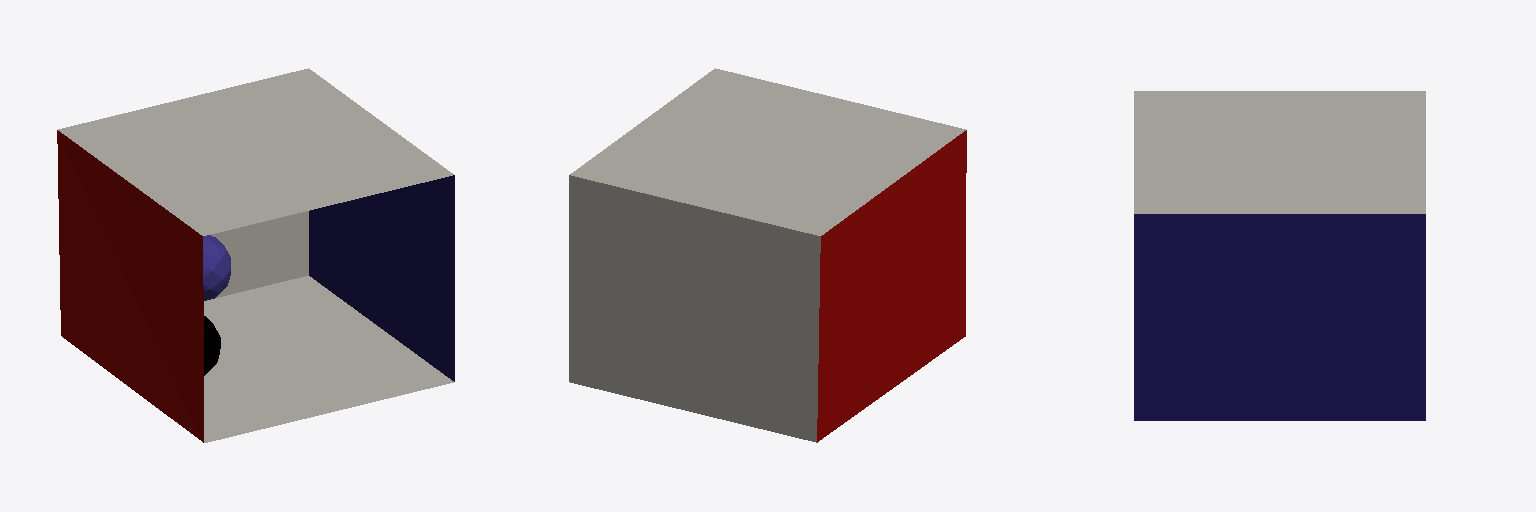
The model's file is CornellBox-Sphere-843.obj.
The picture shows the model from 3 angles: view 1: azimuth 30°, elevation 25°; view 2: azimuth 150°, elevation 25°; view 3: azimuth 270°, elevation 25°; orthographic projection.
Visible parts, largest first — view 1: ceiling, leftWall, floor, rightWall, backWall, leftSphere, rightSphere; view 2: backWall, ceiling, leftWall; view 3: rightWall, ceiling.
Part boxes in pixels (bbox=[...]): ceiling: bbox=[58, 68, 453, 235]; leftWall: bbox=[57, 130, 203, 442]; floor: bbox=[204, 276, 453, 442]; rightWall: bbox=[309, 175, 454, 381]; backWall: bbox=[211, 211, 308, 297]; leftSphere: bbox=[203, 235, 230, 300]; rightSphere: bbox=[204, 316, 220, 375]; backWall: bbox=[569, 175, 820, 442]; ceiling: bbox=[570, 68, 965, 235]; leftWall: bbox=[817, 130, 966, 442]; rightWall: bbox=[1134, 214, 1425, 420]; ceiling: bbox=[1134, 91, 1425, 213].
Size of the model in its own units: 2.02 by 1.59 by 2.03.